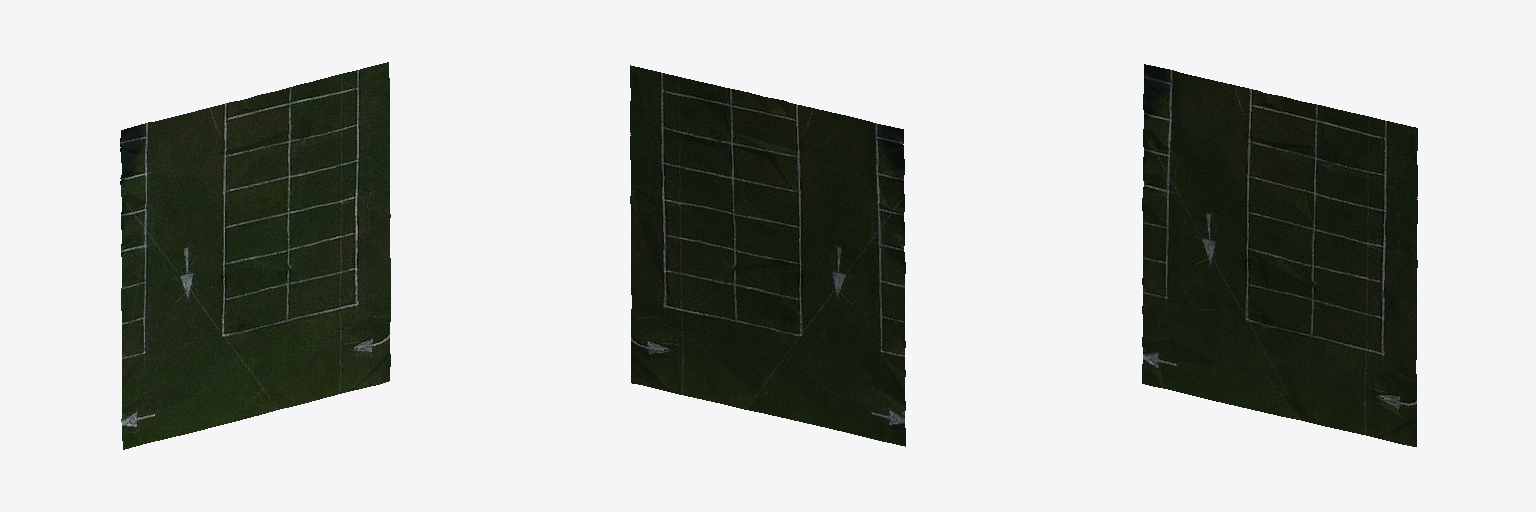
The picture shows the model from 3 angles: view 1: azimuth 30°, elevation 25°; view 2: azimuth 150°, elevation 25°; view 3: azimuth 330°, elevation 25°; orthographic projection.
Parts seen in each view (by area): view 1: obj_0; view 2: obj_0; view 3: obj_0.
Part boxes in pixels (x1,y1,x2,y2): obj_0: (120,62,390,449); obj_0: (630,65,905,446); obj_0: (1142,64,1417,446).
Size of the model in its own units: 20.08 by 22.53 by 0.5941.
Materials: 1 (1 with a texture image).